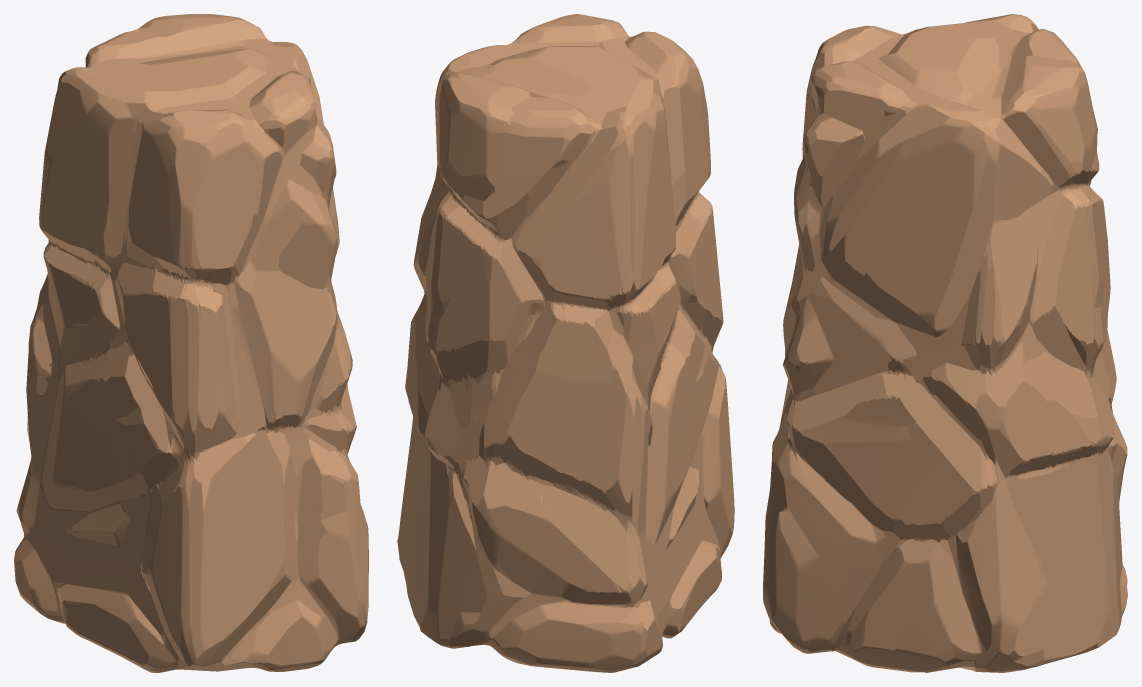
3 views of the same model, side by side, from view 1: azimuth 30°, elevation 25°; view 2: azimuth 150°, elevation 25°; view 3: azimuth 270°, elevation 25° (orthographic). The views are drawn at different scales.
Parts seen in each view (by area): view 1: Mesh_52_LOD0; view 2: Mesh_52_LOD0; view 3: Mesh_52_LOD0.
Boxes of the visible parts, box(x1,y1,x2,y2) form: Mesh_52_LOD0: box(14, 14, 368, 672); Mesh_52_LOD0: box(397, 14, 734, 672); Mesh_52_LOD0: box(763, 14, 1127, 672).
Size of what is drawn, in the model's own units: 1661 by 3148 by 1825.
